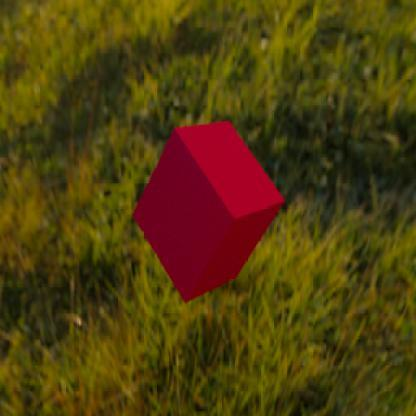cube: (131, 120, 285, 303)
